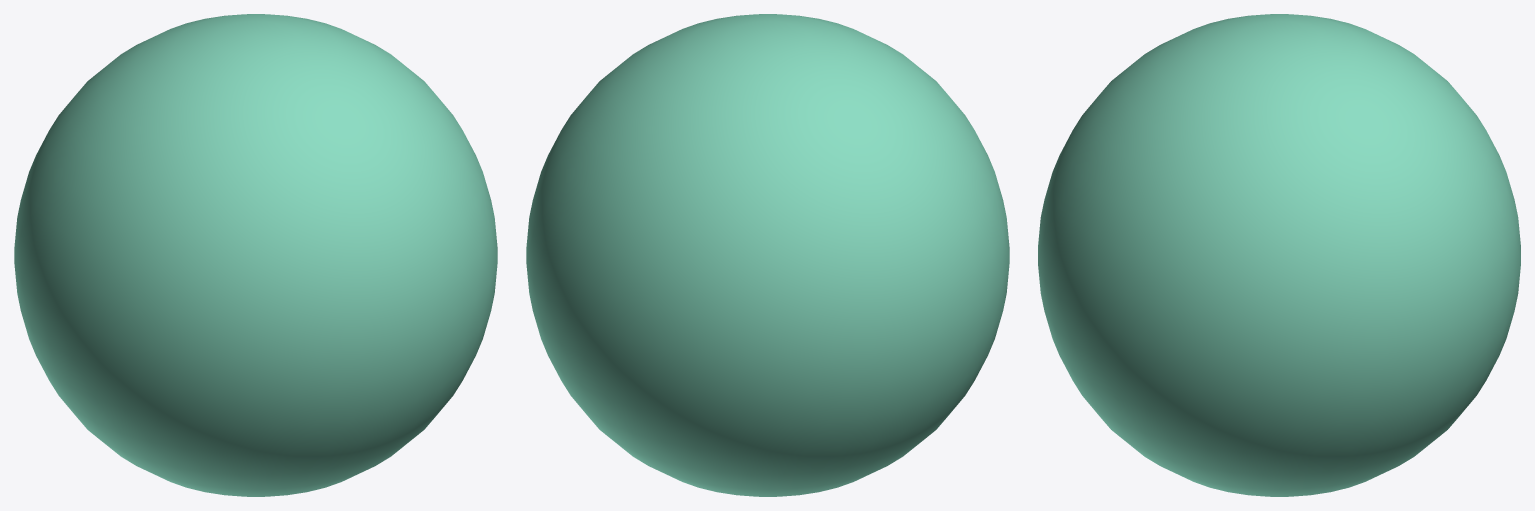
3 renders of one model, left to right at view 1: azimuth 30°, elevation 25°; view 2: azimuth 150°, elevation 25°; view 3: azimuth 270°, elevation 25°, orthographic.
Visible parts, largest first — view 1: ALGAE (GE-25501); view 2: ALGAE (GE-25501); view 3: ALGAE (GE-25501).
Part boxes in pixels (x1,y1,x2,y2): ALGAE (GE-25501): (14, 14, 497, 496); ALGAE (GE-25501): (526, 14, 1009, 496); ALGAE (GE-25501): (1038, 14, 1520, 496).
Bounding box in the file's own units: 0.4056 × 0.4064 × 0.4049.
